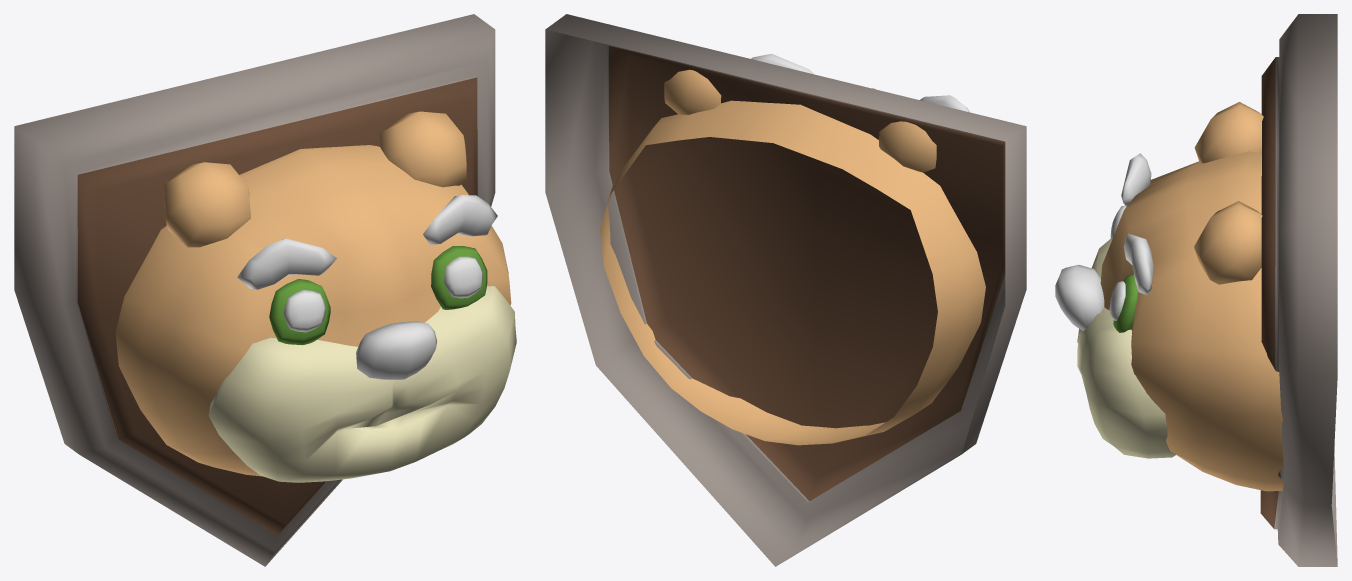
File: props_trophee_tiger.fbx
3 views of the same model, side by side, from view 1: azimuth 30°, elevation 25°; view 2: azimuth 150°, elevation 25°; view 3: azimuth 270°, elevation 25° (orthographic). The views are drawn at different scales.
Visible parts, largest first — view 1: trophee_tiger; view 2: trophee_tiger; view 3: trophee_tiger.
Part boxes in pixels (x1,y1,x2,y2): trophee_tiger: (14,14,516,566); trophee_tiger: (545,14,1026,566); trophee_tiger: (1055,14,1337,566).
Size of the model in its own units: 121 by 121 by 68.88.
